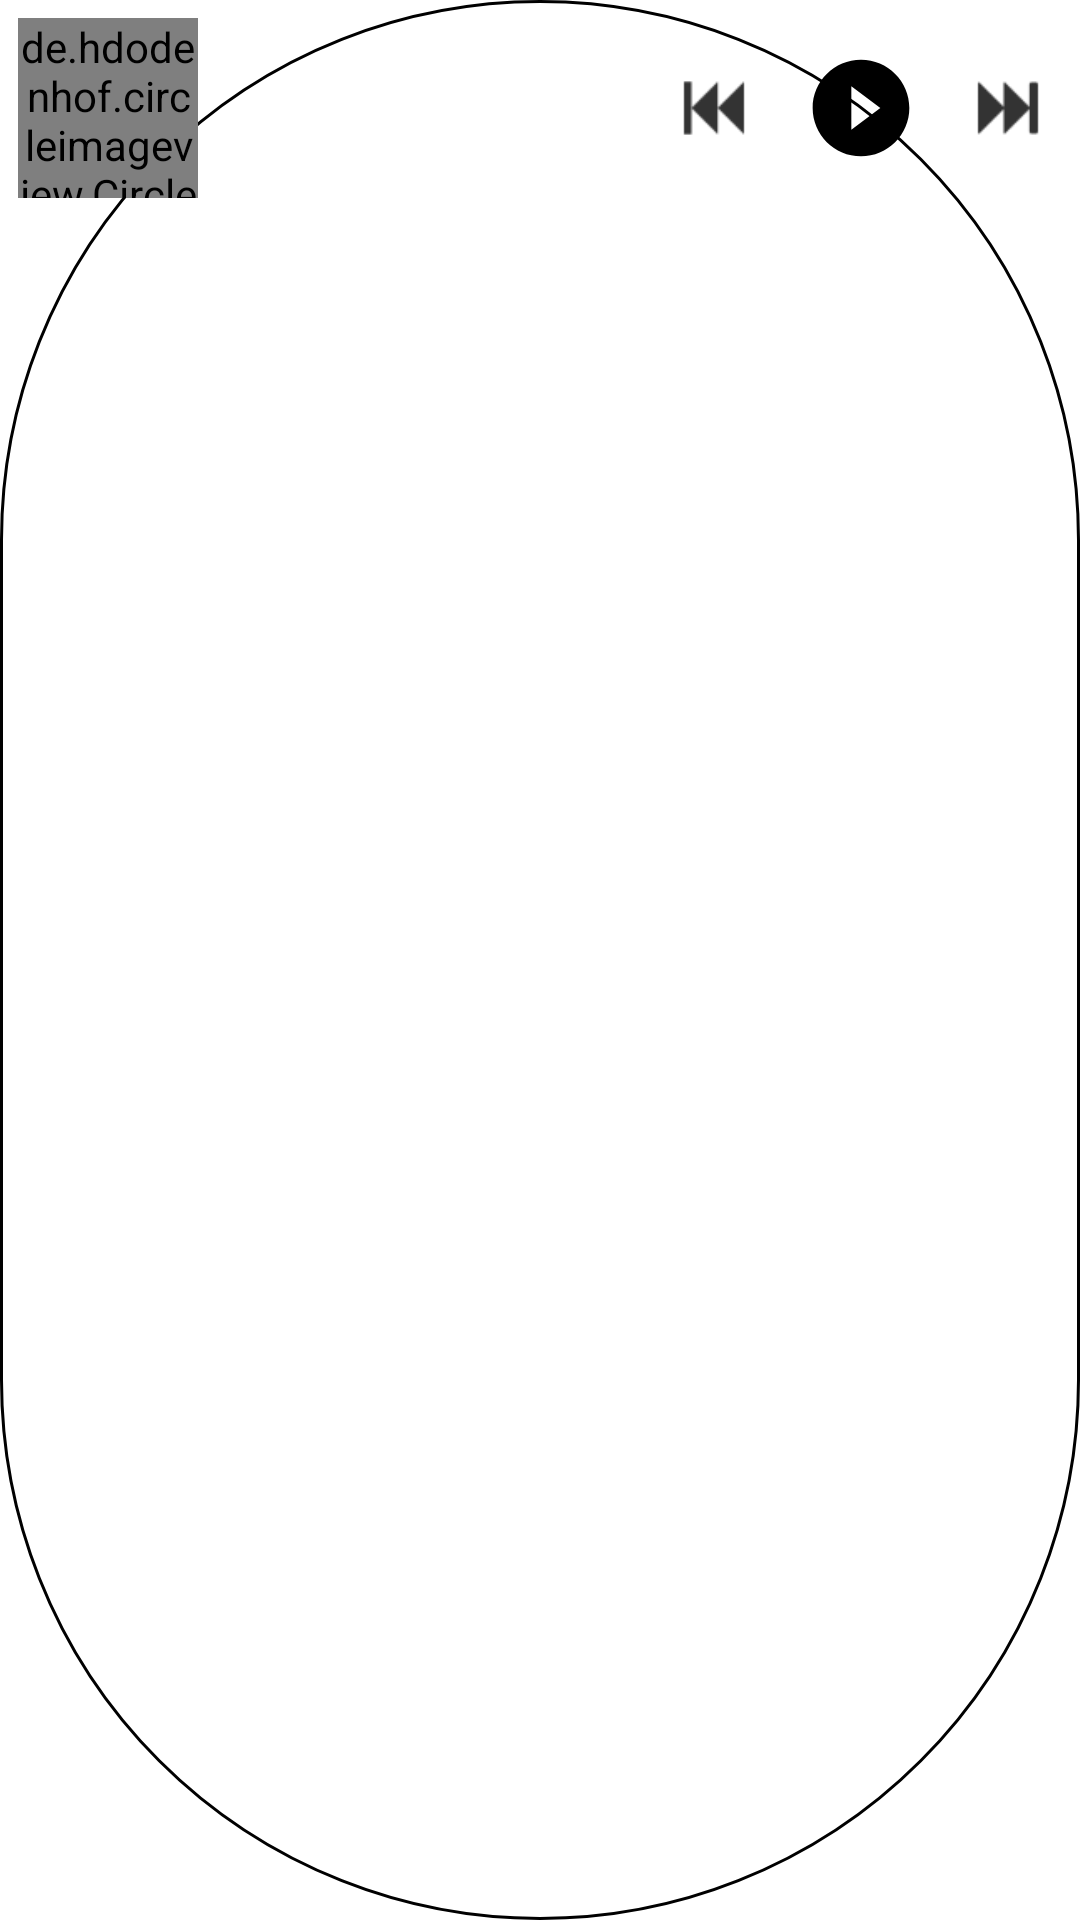

Named icons in this screenshot (1080 x 1920) and their bounding boxes, detection(x1, y1, x2, y2):
next arrow: detection(977, 81, 1039, 135)
play: detection(774, 53, 948, 191)
previous arrow: detection(683, 81, 745, 135)
